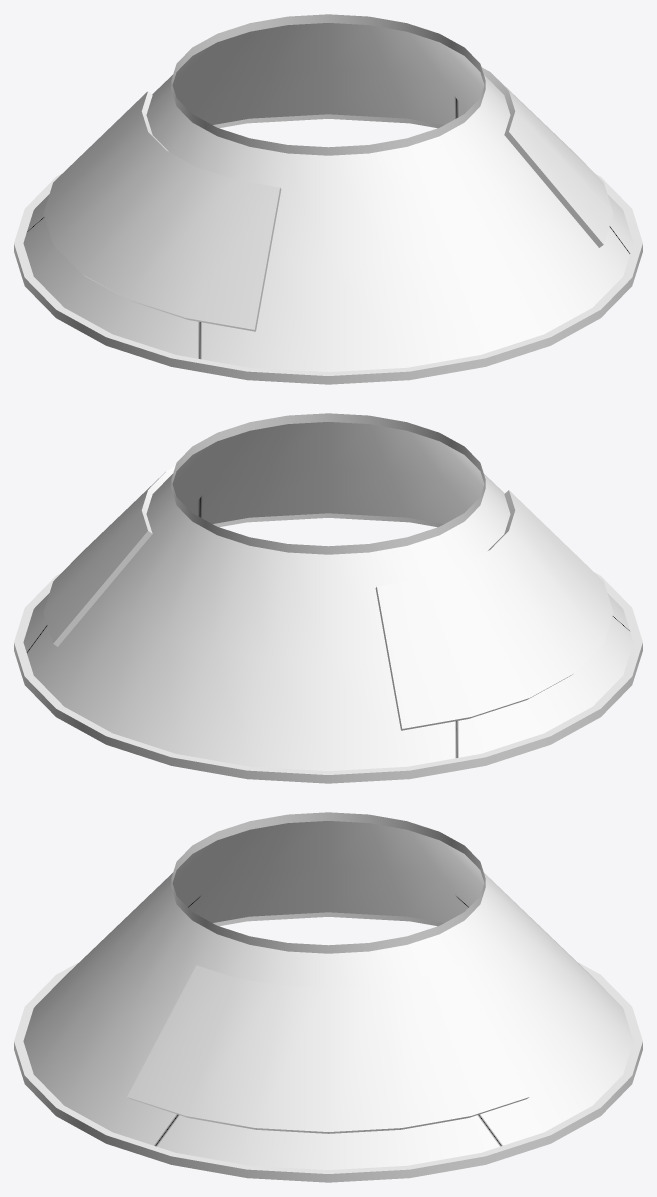
The model's file is acamar_adapter_s2_s1_1.obj.
3 renders of one model, top to bottom at view 1: azimuth 30°, elevation 25°; view 2: azimuth 150°, elevation 25°; view 3: azimuth 270°, elevation 25°, orthographic.
Visible parts, largest first — view 1: mesh1; view 2: mesh1; view 3: mesh1.
Part boxes in pixels (<box>): mesh1: <box>14,14,642,384</box>; mesh1: <box>14,413,642,783</box>; mesh1: <box>14,812,642,1182</box>.
Bounding box in the file's own units: 2.5 × 0.75 × 2.5.
